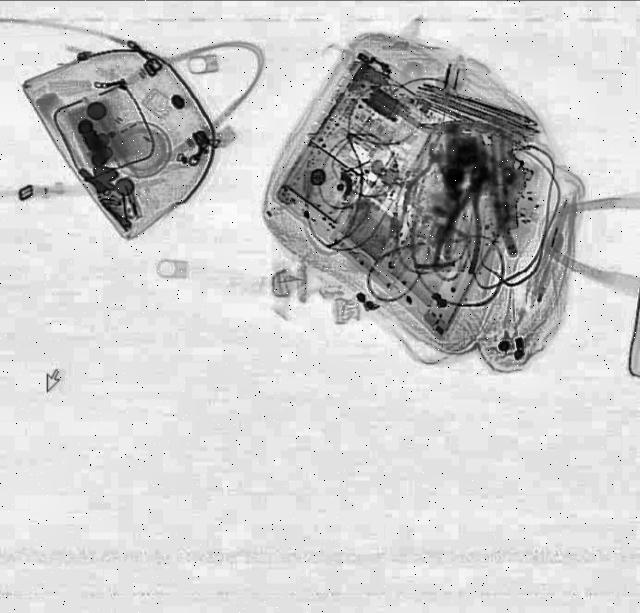Pliers: (427, 164, 505, 276), (399, 140, 461, 220)
